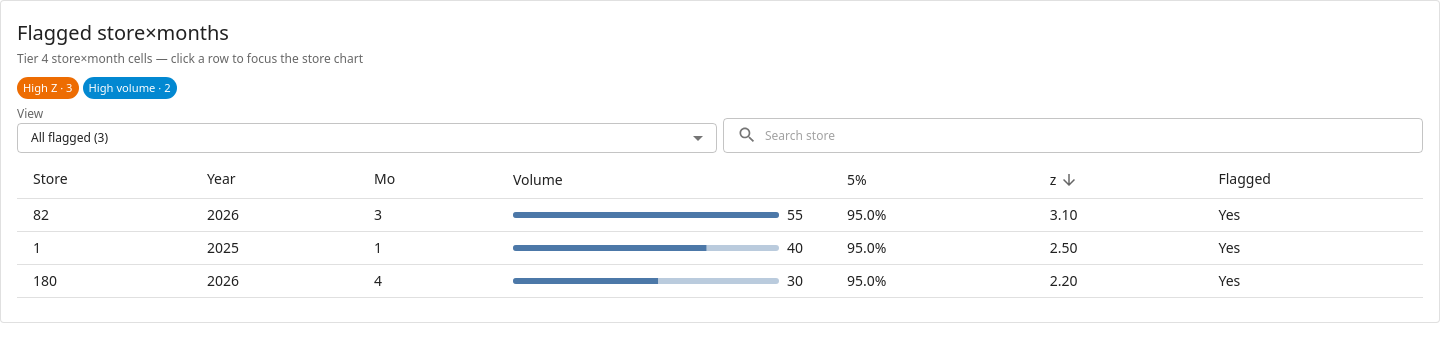
it: FlaggedMonthsTable › store search filters flagged rows by store id
Type "8" into the field with test id "flagged-store-search" at coordinates (1094, 135), box top-left (765, 118), bottom-right (1423, 153)
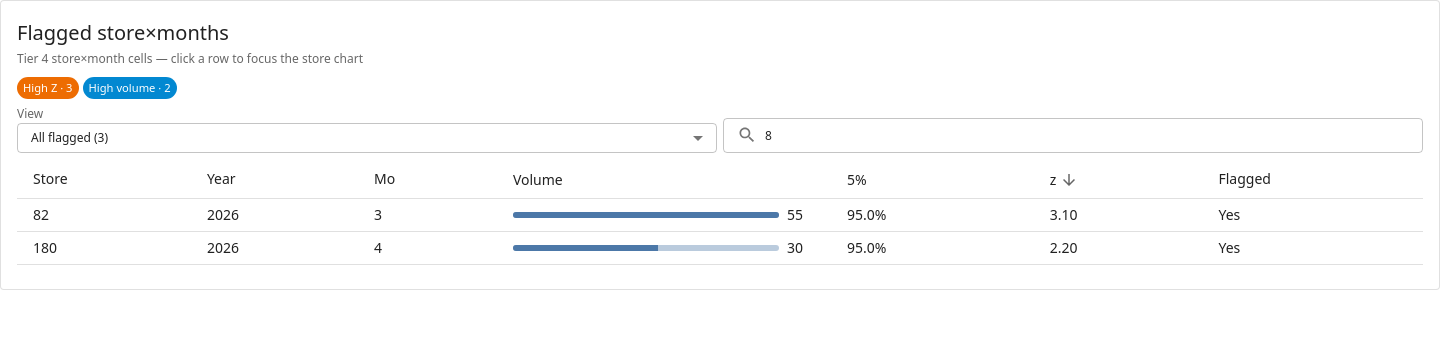
Check: the text "82" is shown, box top-left (17, 198), bottom-right (191, 231)
Check: the text "180" is shown, box top-left (17, 231), bottom-right (191, 264)
